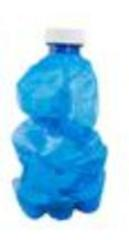plastic: (10, 26, 108, 220)
